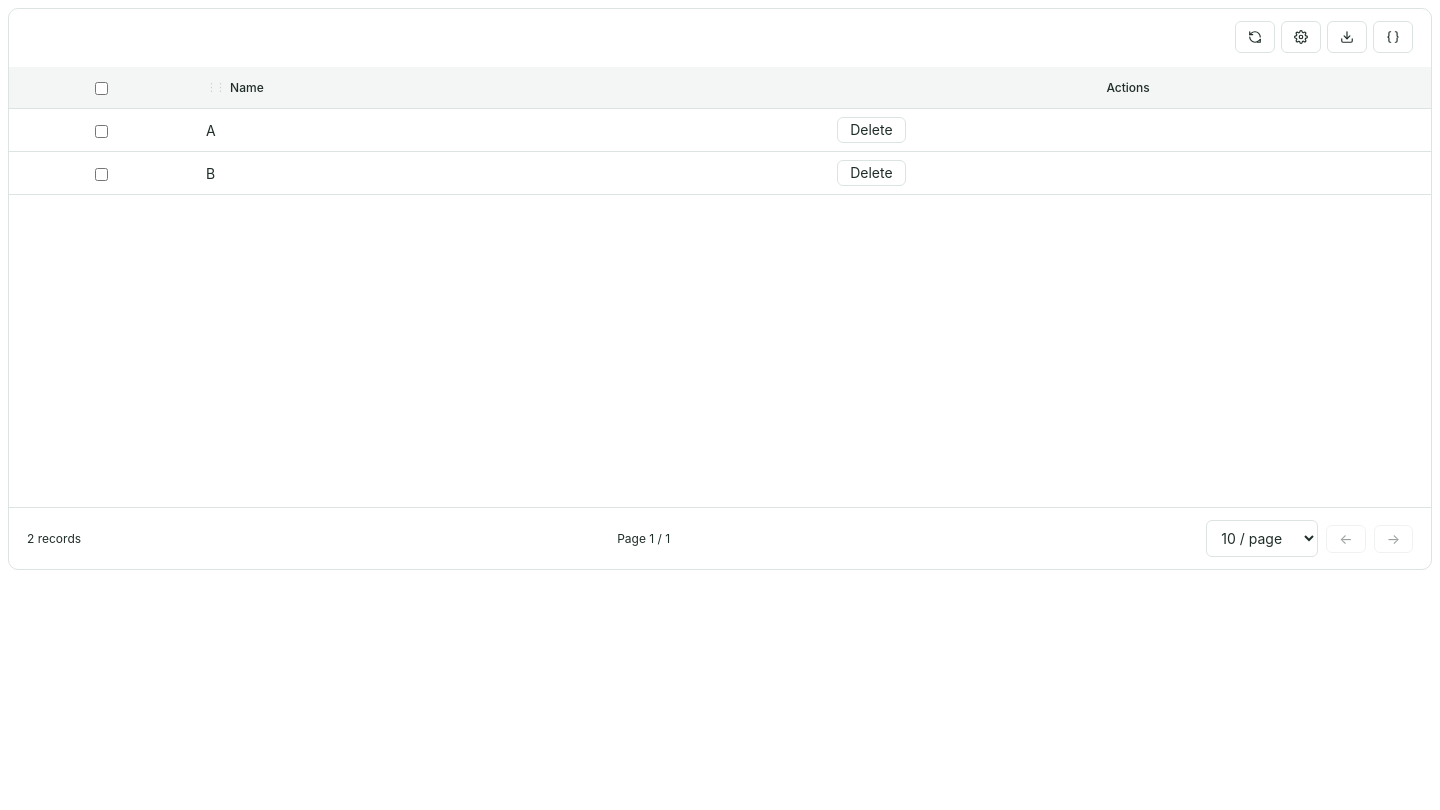
deleting one of several selected rows keeps the other selection
This screenshot has width=1440, height=810.
What coordinates should you click on to do the following:
click the checkbox named "Select row 1"
I would click on:
 (102, 132)
Its box is [95,125,108,138].
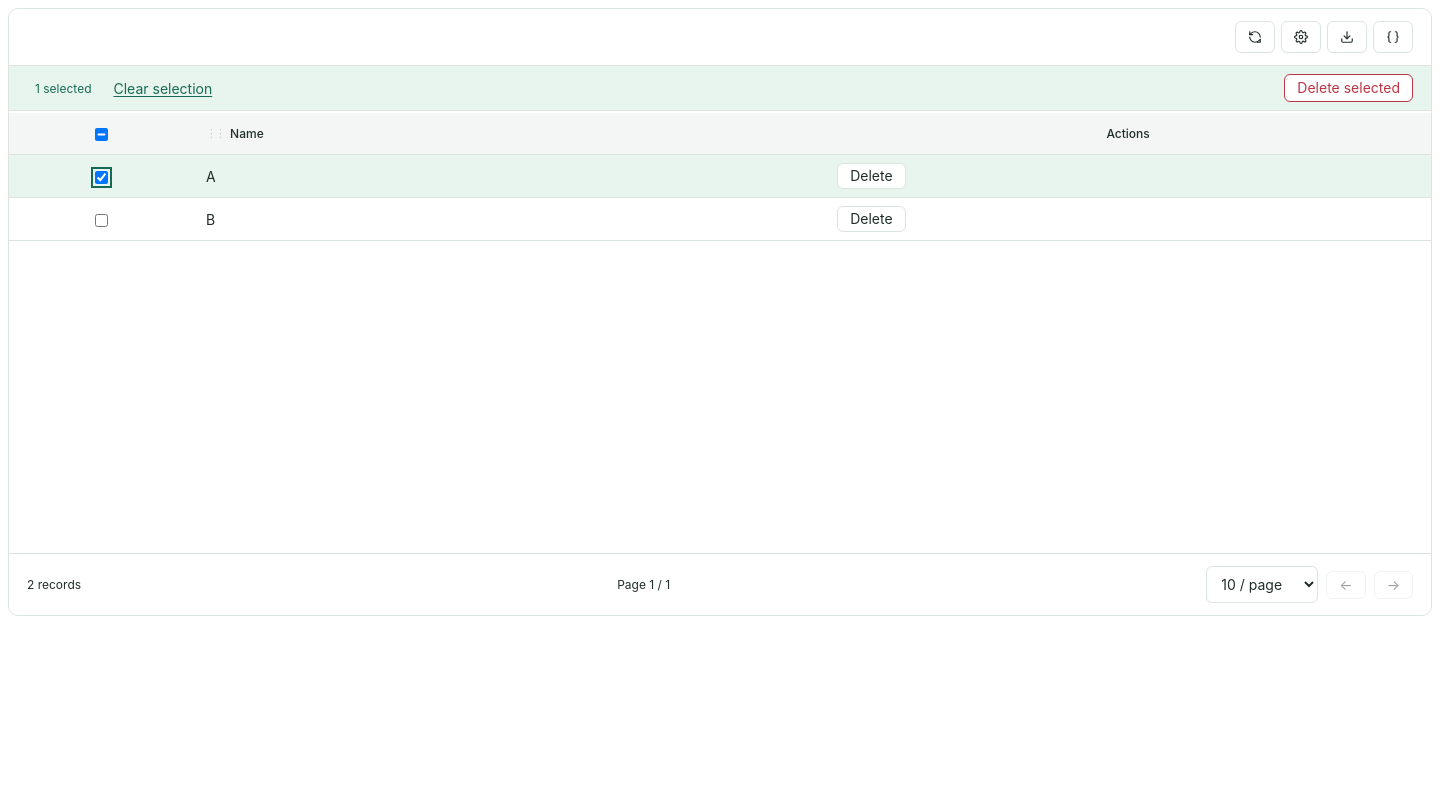
What coordinates should you click on to do the following:
click the checkbox named "Select row 2"
I would click on:
 (102, 221)
Its box is [95,214,108,227].
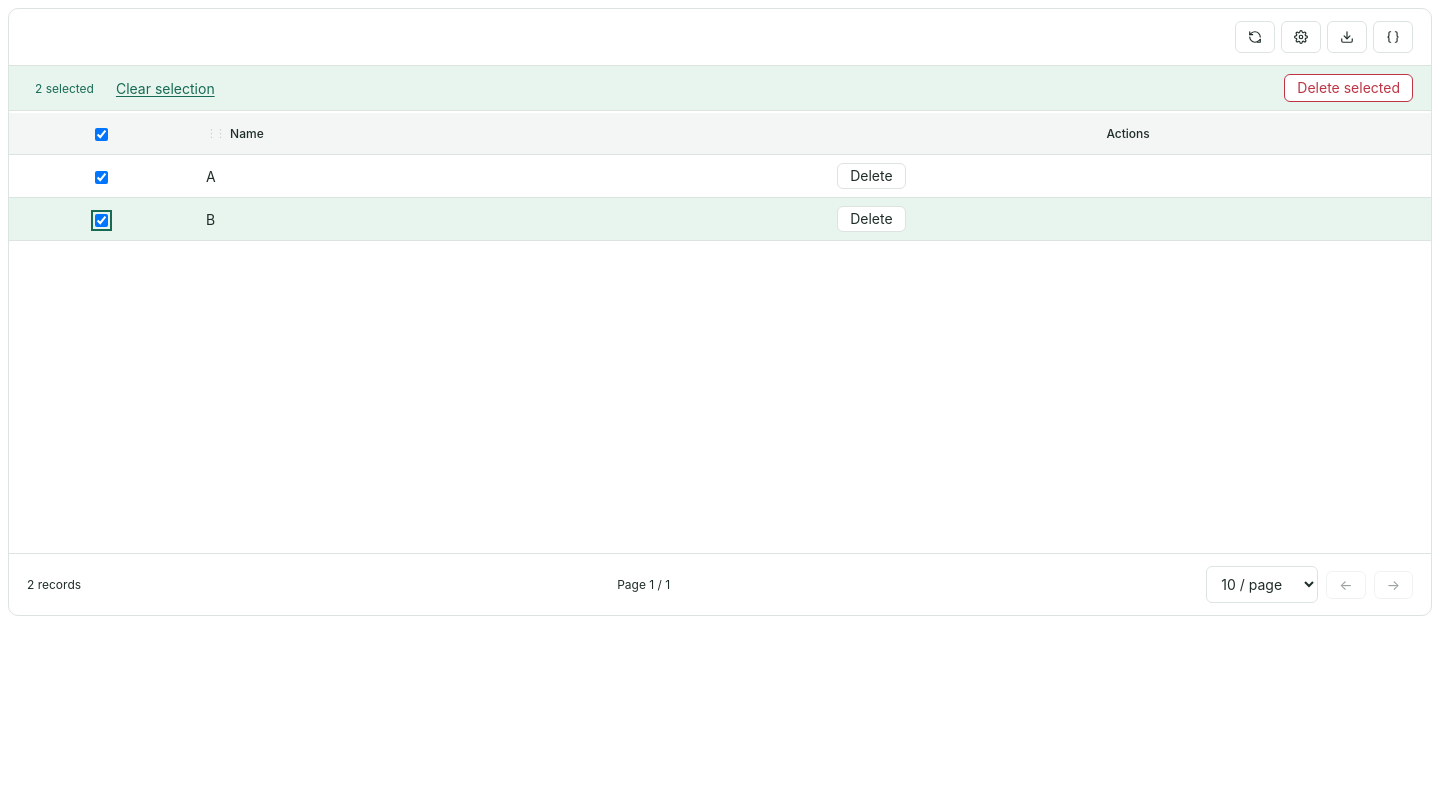
What coordinates should you click on to do the following:
click the button with aria-label "Delete row 1"
I would click on:
 (871, 176)
Its box is [837,163,906,189].
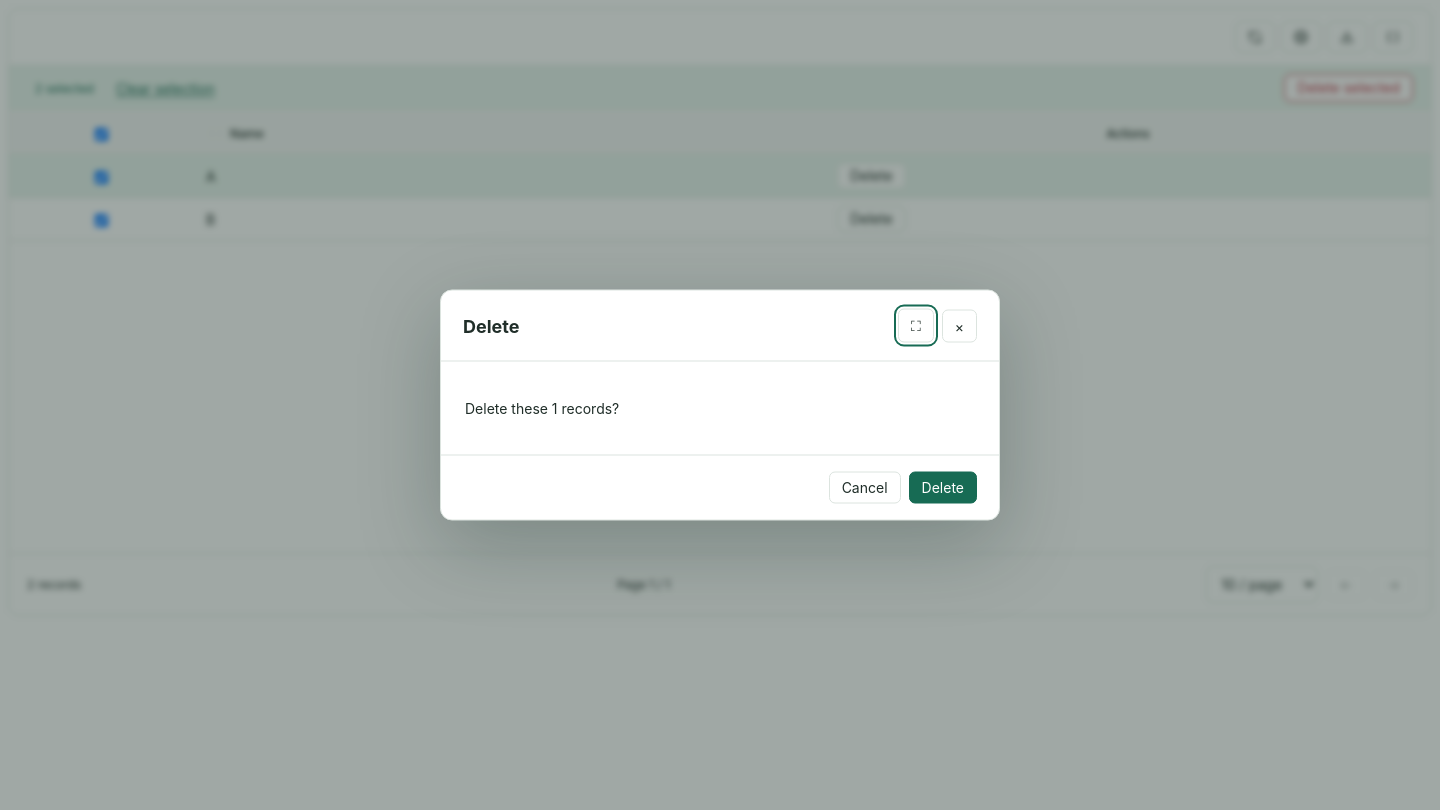
What coordinates should you click on to do the following:
click the button "Delete"
I would click on:
 (943, 488)
Its box is [909,472,977,504].
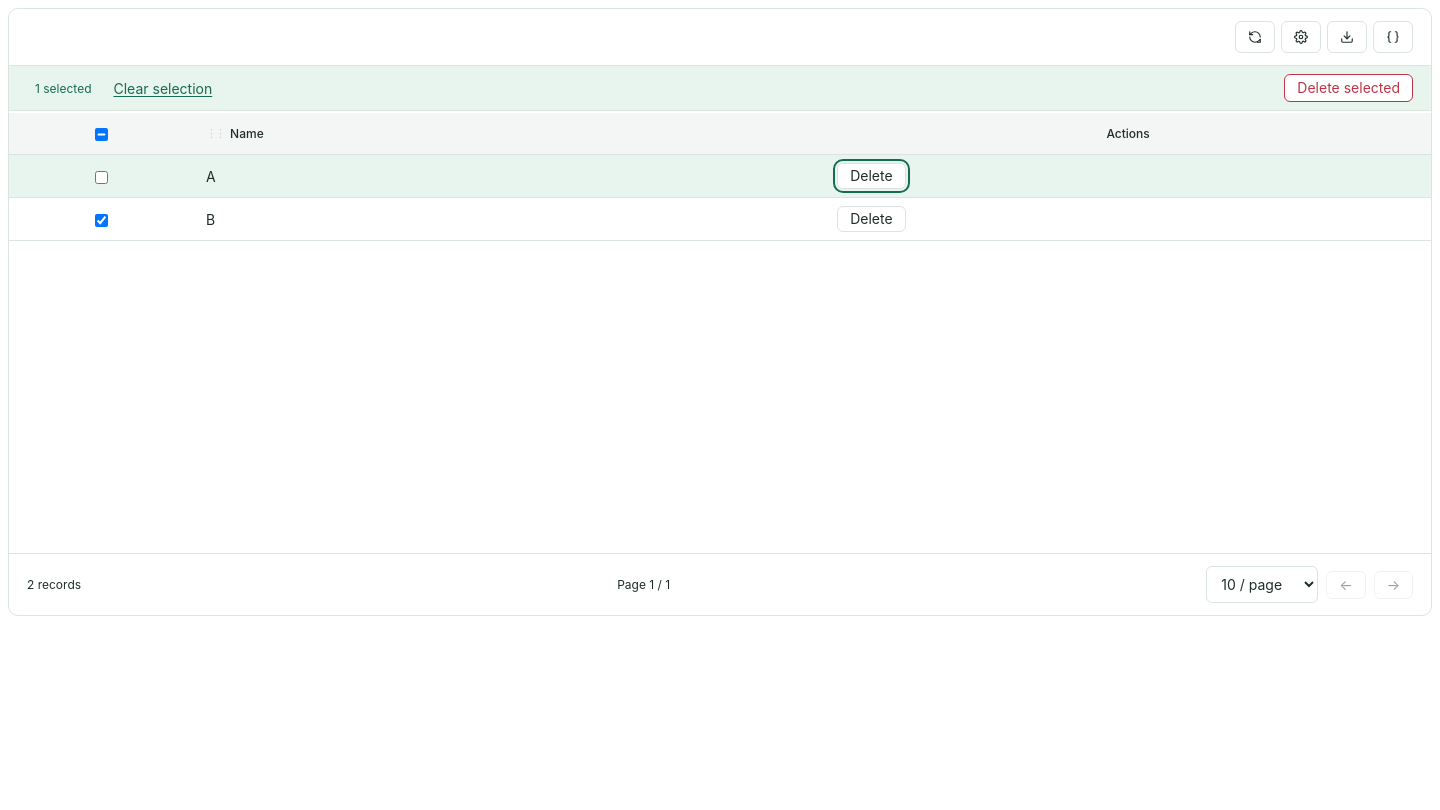
Now the text "1 selected" is shown, box [27,78,100,98]
